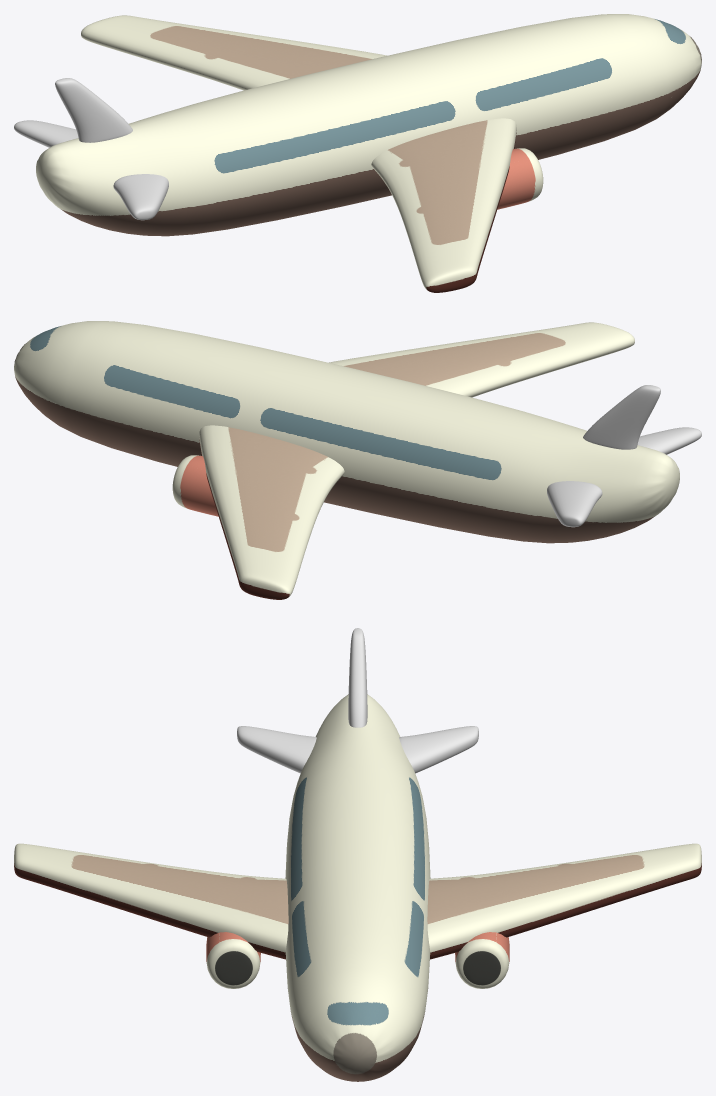
File: plane_modiers_applied.gltf
3 renders of one model, top to bottom at view 1: azimuth 30°, elevation 25°; view 2: azimuth 150°, elevation 25°; view 3: azimuth 270°, elevation 25°, orthographic.
Visible parts, largest first — view 1: PlaneBody, MainWings, RearWings, TopWing, Engine; view 2: PlaneBody, MainWings, RearWings, TopWing, Engine; view 3: PlaneBody, MainWings, Engine, RearWings, TopWing.
Part boxes in pixels (box(x1,y1,x2,y2)): PlaneBody: box(36, 14, 701, 236); MainWings: box(81, 15, 516, 292); RearWings: box(14, 120, 168, 220); TopWing: box(55, 78, 132, 142); Engine: box(497, 148, 543, 209); PlaneBody: box(14, 321, 679, 543); MainWings: box(199, 322, 634, 599); RearWings: box(547, 427, 701, 527); TopWing: box(583, 385, 660, 449); Engine: box(172, 455, 218, 516); PlaneBody: box(285, 694, 430, 1081); MainWings: box(14, 843, 701, 959); Engine: box(206, 932, 509, 988); RearWings: box(237, 726, 478, 773); TopWing: box(348, 628, 367, 727).
Size of the model in its own units: 10.92 by 2.98 by 10.1.
3 materials, 3 textured.
